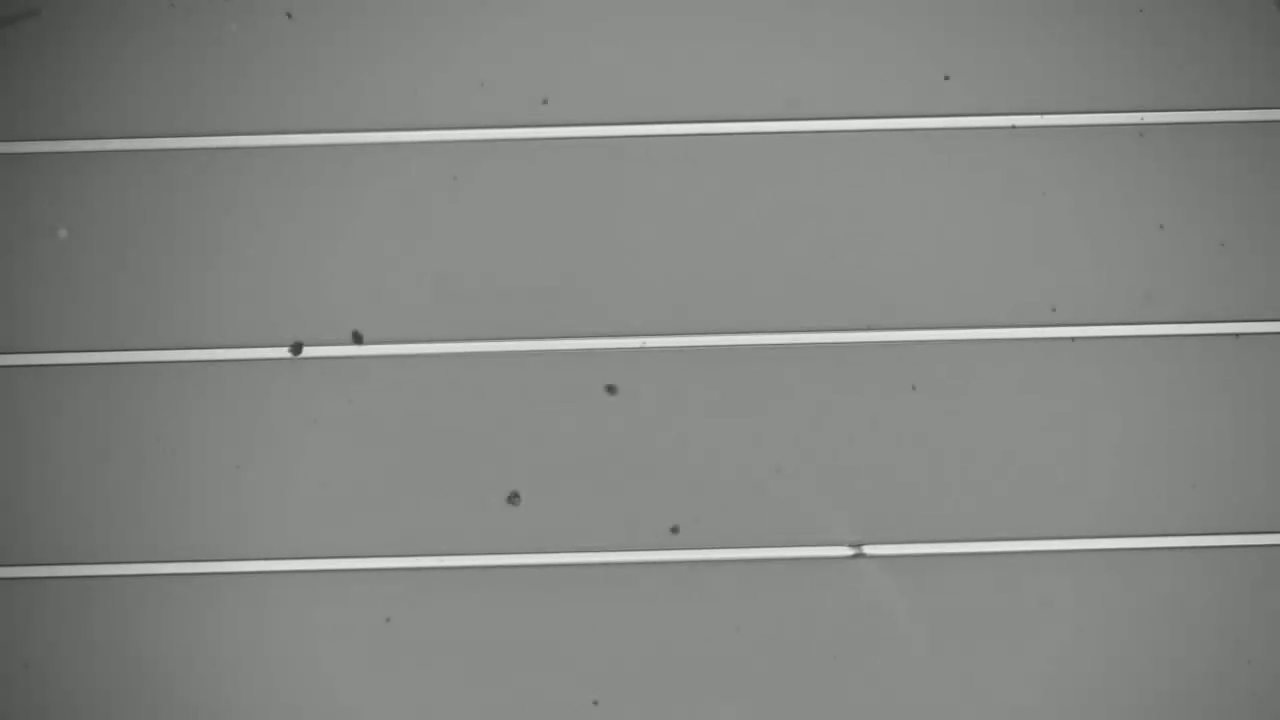stains_enbedded: (281, 337, 315, 362)
